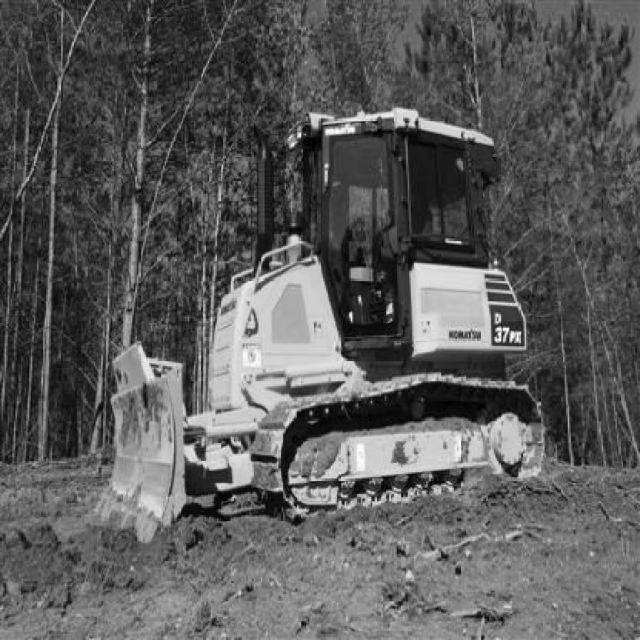Construction Equipment: (93, 109, 545, 544)
